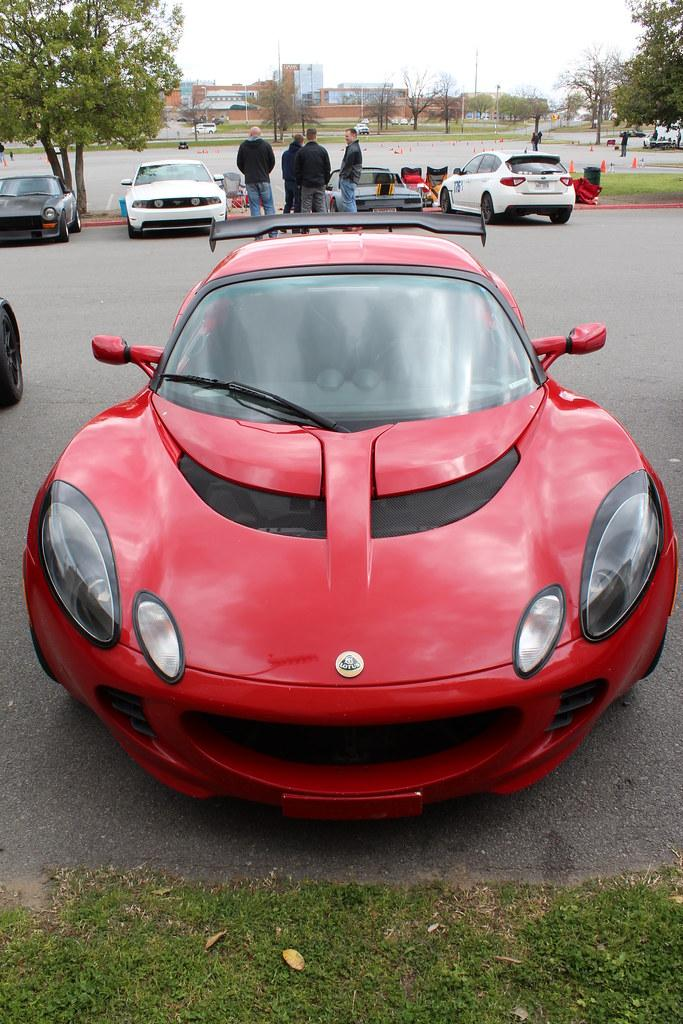car: (15, 210, 683, 840), (439, 150, 576, 225), (121, 160, 229, 239), (1, 174, 82, 244), (325, 167, 424, 213), (196, 124, 217, 134), (355, 124, 370, 135)
